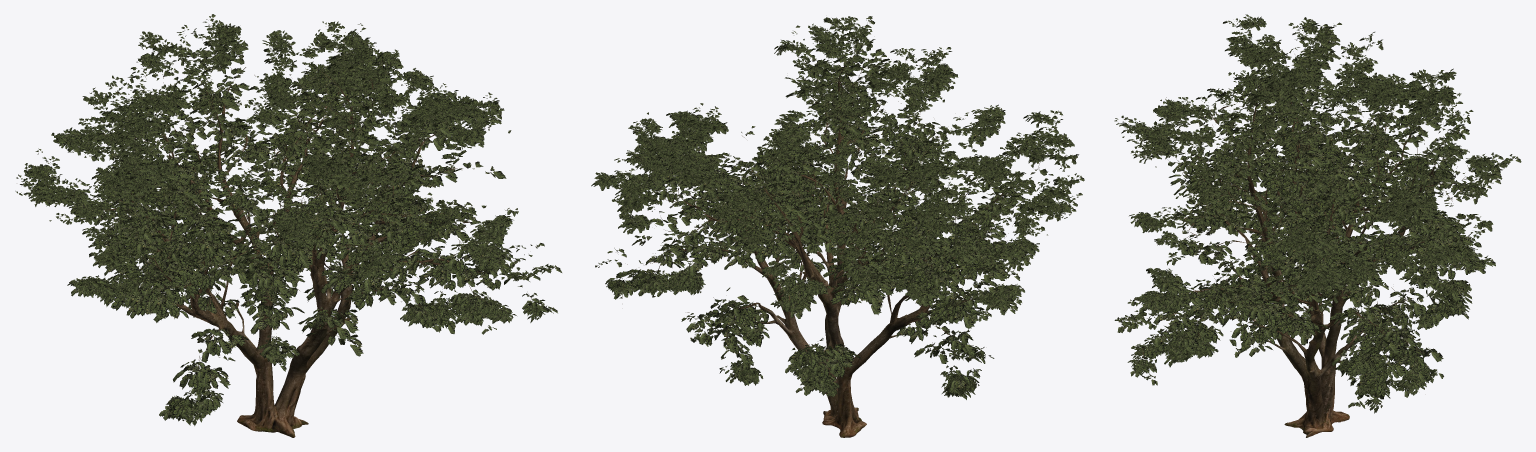
The model's file is jacaranda_tree.glb.
3 renders of one model, left to right at view 1: azimuth 30°, elevation 25°; view 2: azimuth 150°, elevation 25°; view 3: azimuth 270°, elevation 25°, orthographic. The views are drawn at different scales.
Parts seen in each view (by area): view 1: jacaranda_tree_LOD0; view 2: jacaranda_tree_LOD0; view 3: jacaranda_tree_LOD0.
Part boxes in pixels (bbox=[...]): jacaranda_tree_LOD0: bbox=[15, 14, 561, 437]; jacaranda_tree_LOD0: bbox=[591, 16, 1084, 437]; jacaranda_tree_LOD0: bbox=[1114, 14, 1521, 437].
Size of the model in its own units: 24.24 by 19.46 by 19.12.
Materials: 3 (3 with a texture image).
